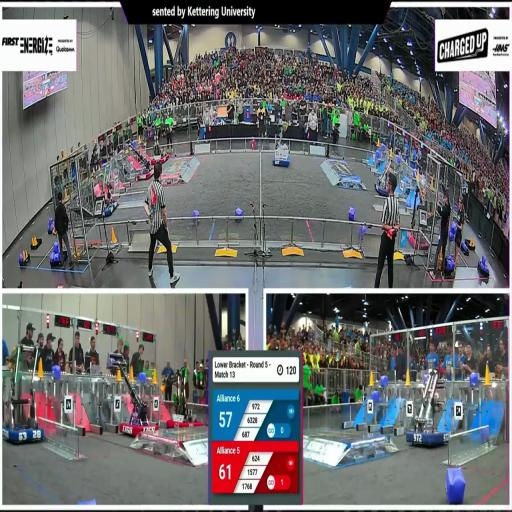robot: (105, 350, 159, 438), (4, 341, 44, 442), (406, 364, 449, 452), (160, 372, 203, 432), (406, 184, 430, 252), (98, 162, 120, 217), (125, 142, 156, 181), (272, 120, 294, 169), (376, 152, 395, 199), (150, 142, 170, 165)
